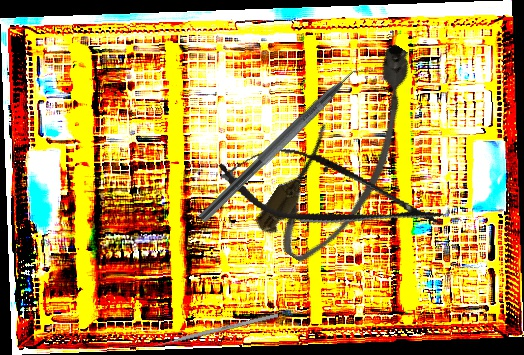Cannula: (249, 34, 449, 274)
Chopper: (196, 51, 381, 236)
Micro Scissor: (210, 132, 454, 254)
Pusher: (145, 312, 279, 351)
